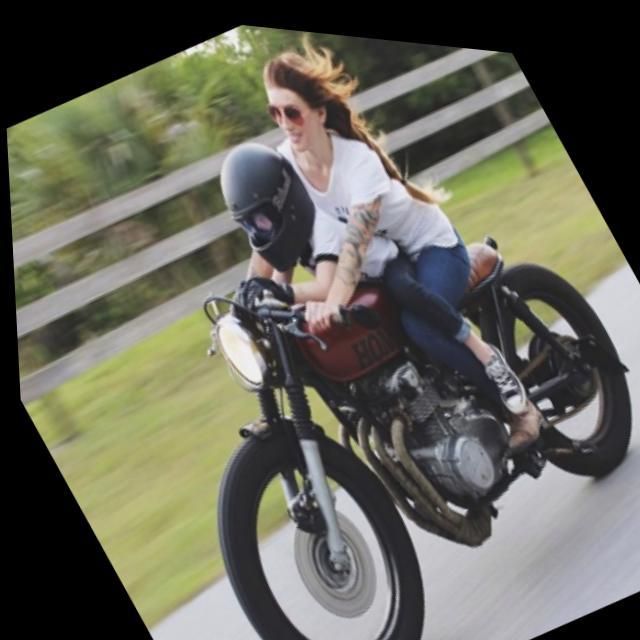Nonhelmet: (261, 37, 348, 171)
